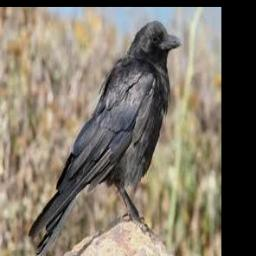Crow: (29, 20, 182, 256)
